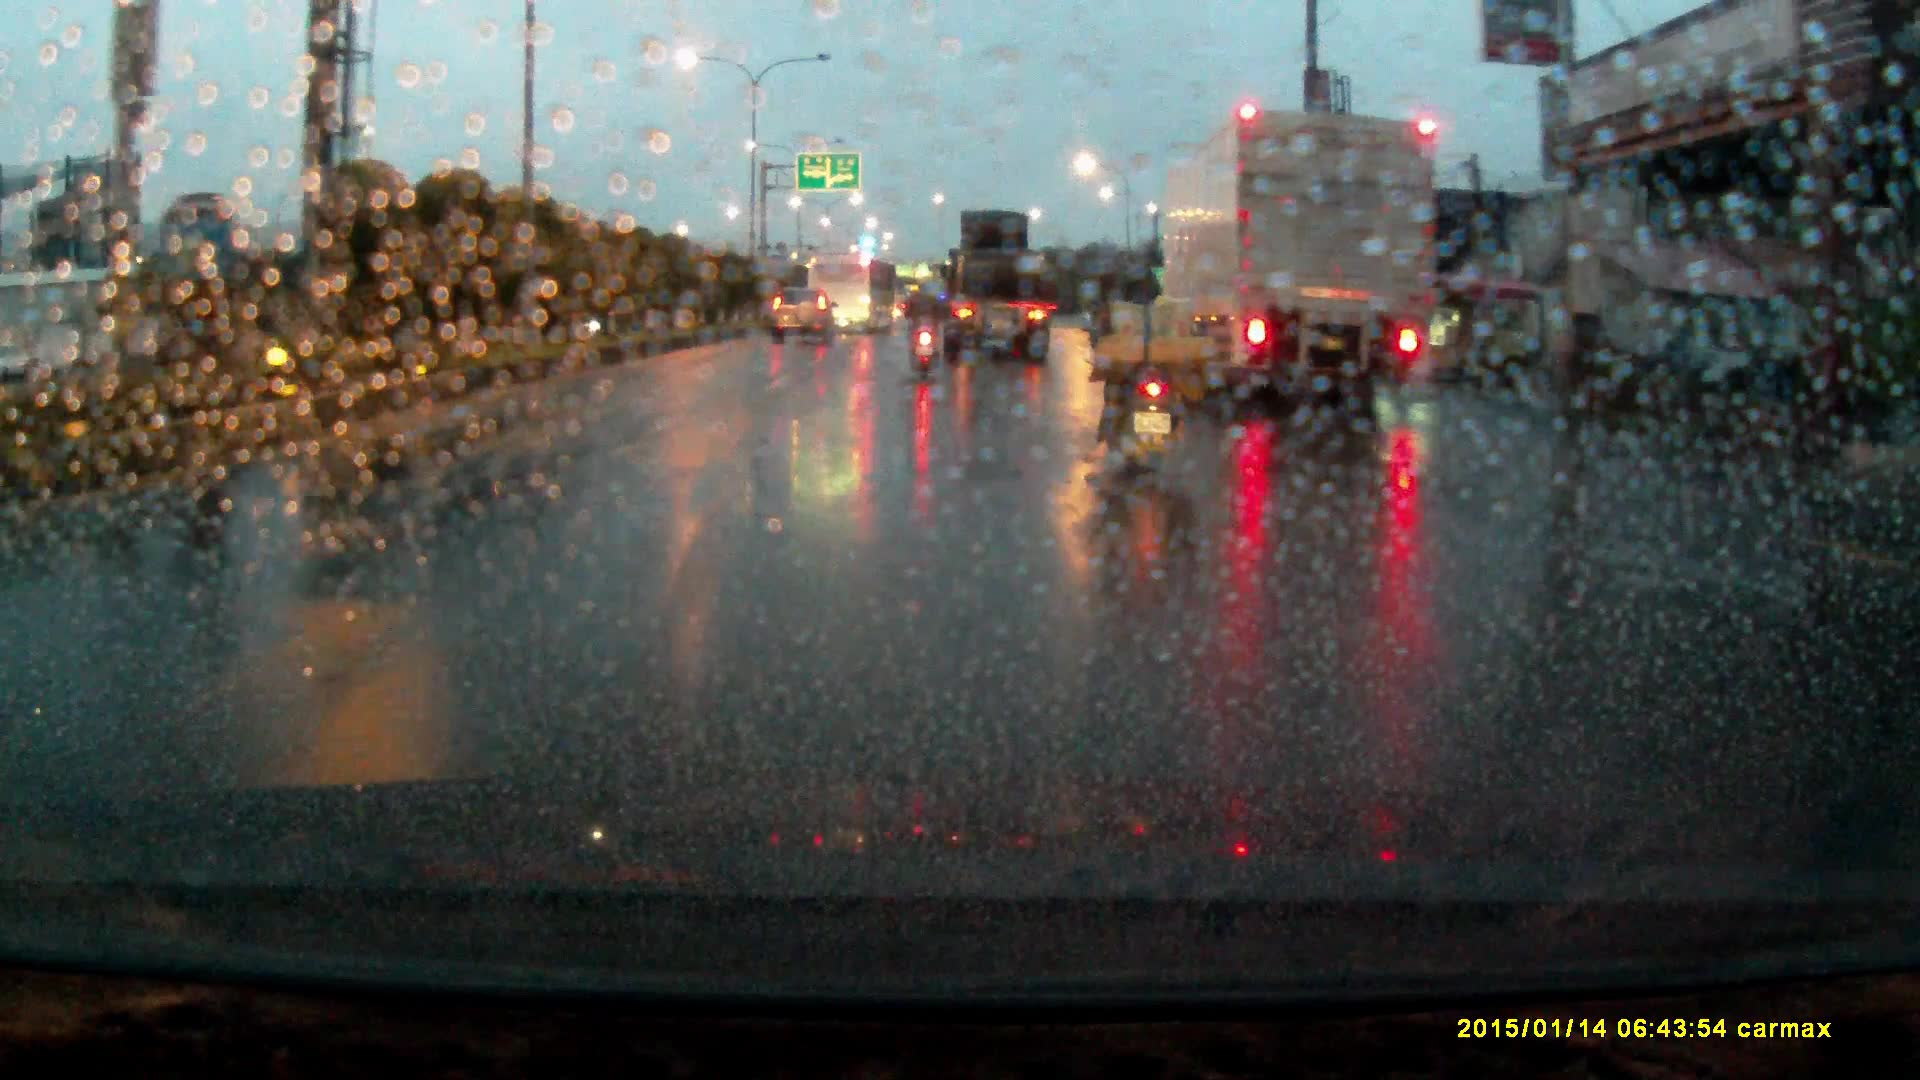rider: (1087, 253, 1201, 495), (905, 273, 946, 381)
vehicle: (1149, 104, 1442, 414), (938, 206, 1056, 365), (807, 253, 876, 335), (767, 289, 838, 353)
